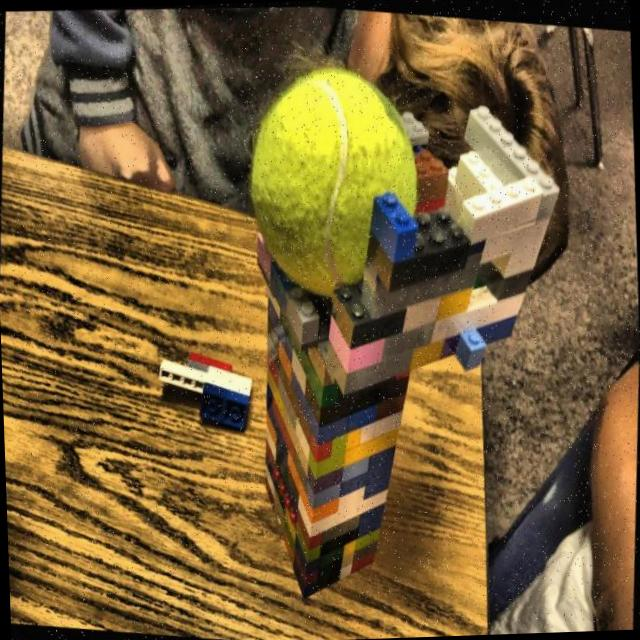tennis-ball: (238, 54, 447, 316)
